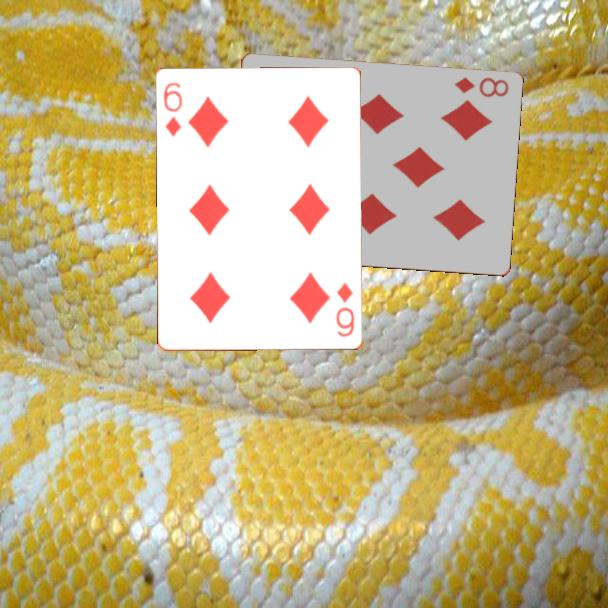d06: (333, 279, 358, 340), (160, 80, 185, 140)
d08: (450, 74, 511, 100)
